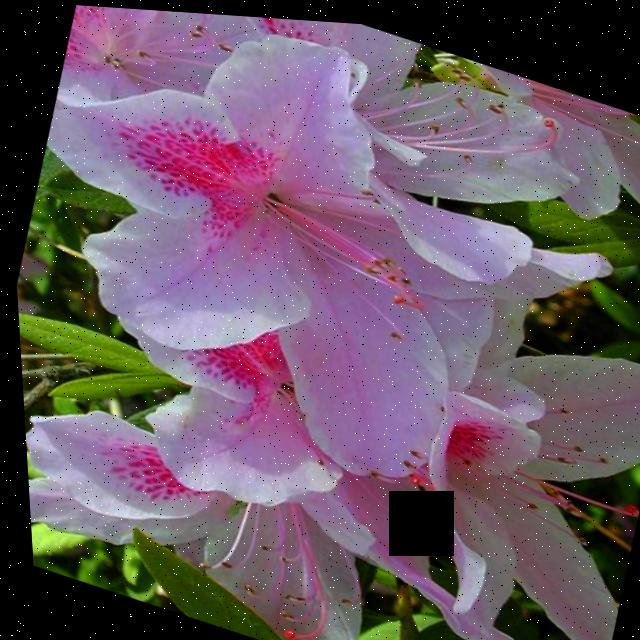azalea: (15, 1, 554, 454), (15, 317, 433, 640)
